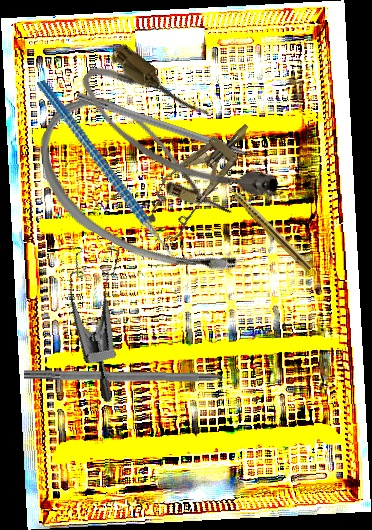Cannula: (13, 80, 277, 299), (69, 36, 291, 233)
Chopper: (36, 53, 196, 292)
Handpiece: (223, 181, 315, 273)
Hook Surgical: (74, 90, 279, 171), (23, 369, 252, 386)
Speculum: (38, 228, 175, 406), (135, 107, 267, 246)
